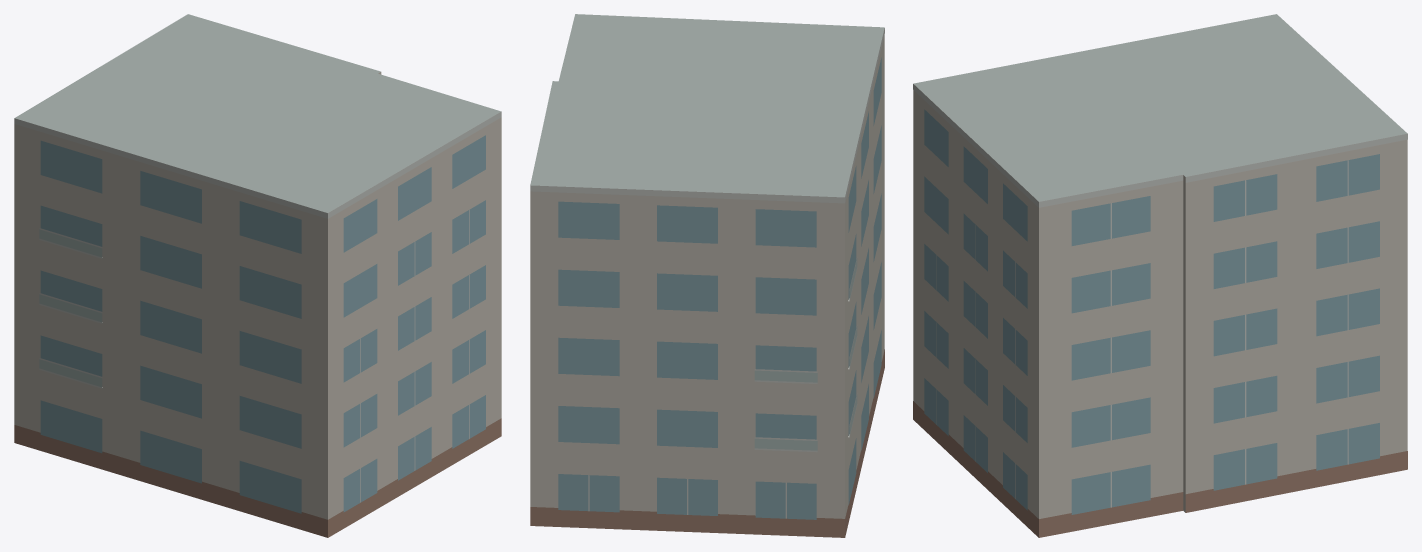
File: survey-upis-32737363.glb
The picture shows the model from 3 angles, left to right: view 1: azimuth 30°, elevation 25°; view 2: azimuth 150°, elevation 25°; view 3: azimuth 270°, elevation 25°; orthographic projection. The views are drawn at different scales.
Visible parts, largest first — view 1: survey-upis-32737363.tmp; view 2: survey-upis-32737363.tmp; view 3: survey-upis-32737363.tmp.
Boxes of the visible parts, bbox=[...] form: survey-upis-32737363.tmp: bbox=[14, 14, 501, 537]; survey-upis-32737363.tmp: bbox=[530, 14, 884, 537]; survey-upis-32737363.tmp: bbox=[913, 14, 1407, 537].
Bounding box in the file's own units: 16.69 × 13.9 × 18.56.
